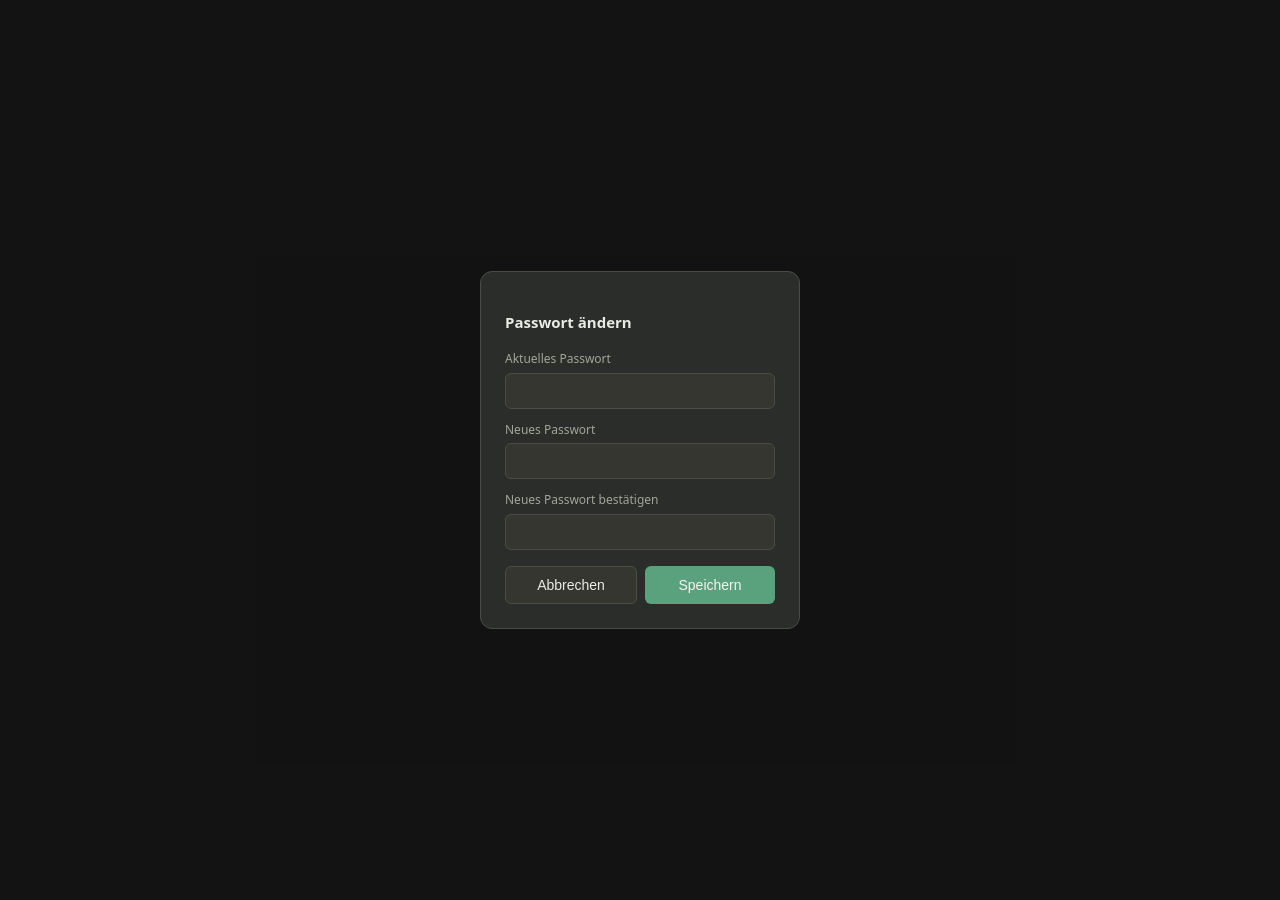
Test: ChangePasswordForm › submits matching passwords and shows a success state
In the 1st password field: (640, 391) [505, 373, 775, 409], type "altesPasswort"
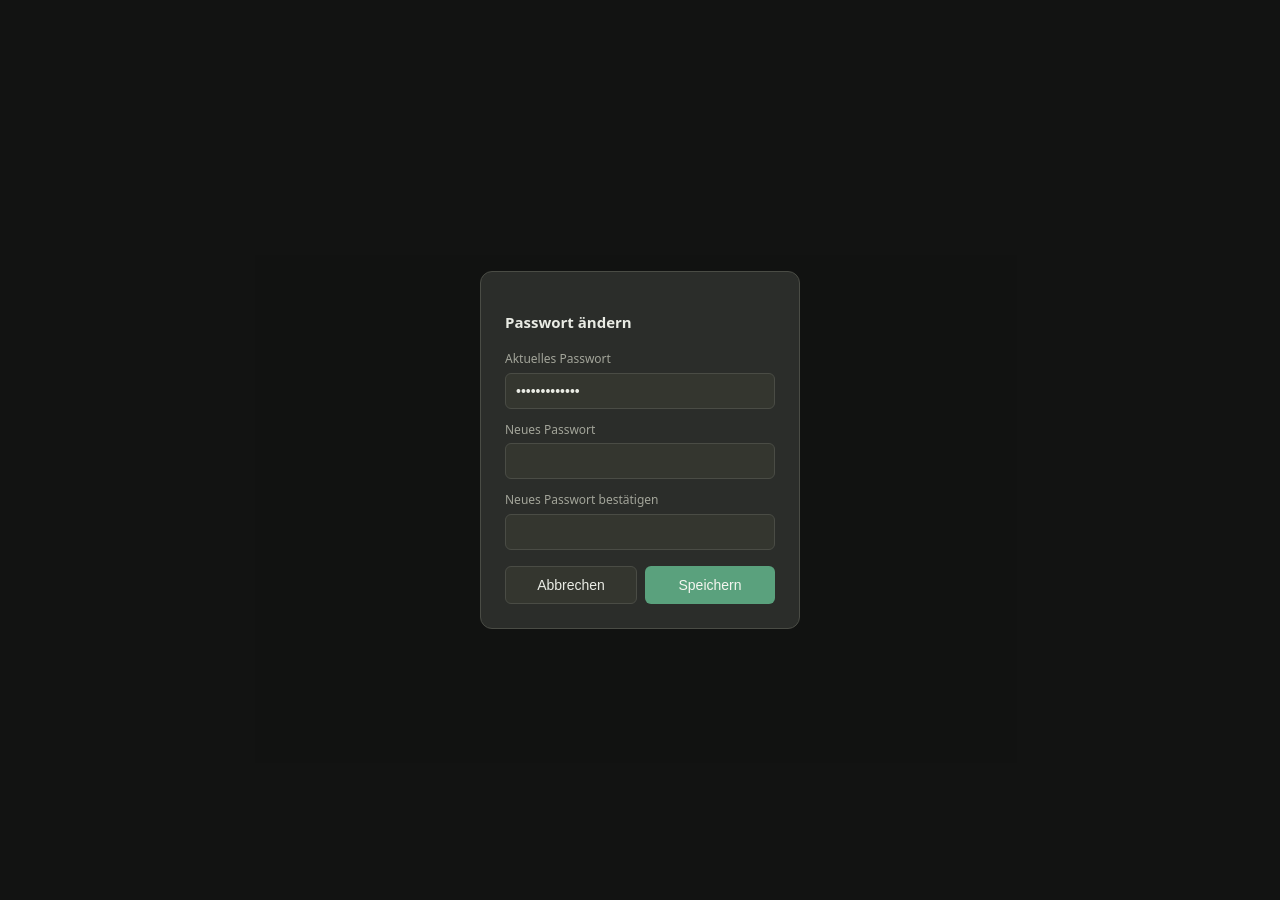
In the 2nd password field: (640, 461) [505, 443, 775, 479], type "neuesPasswort1"
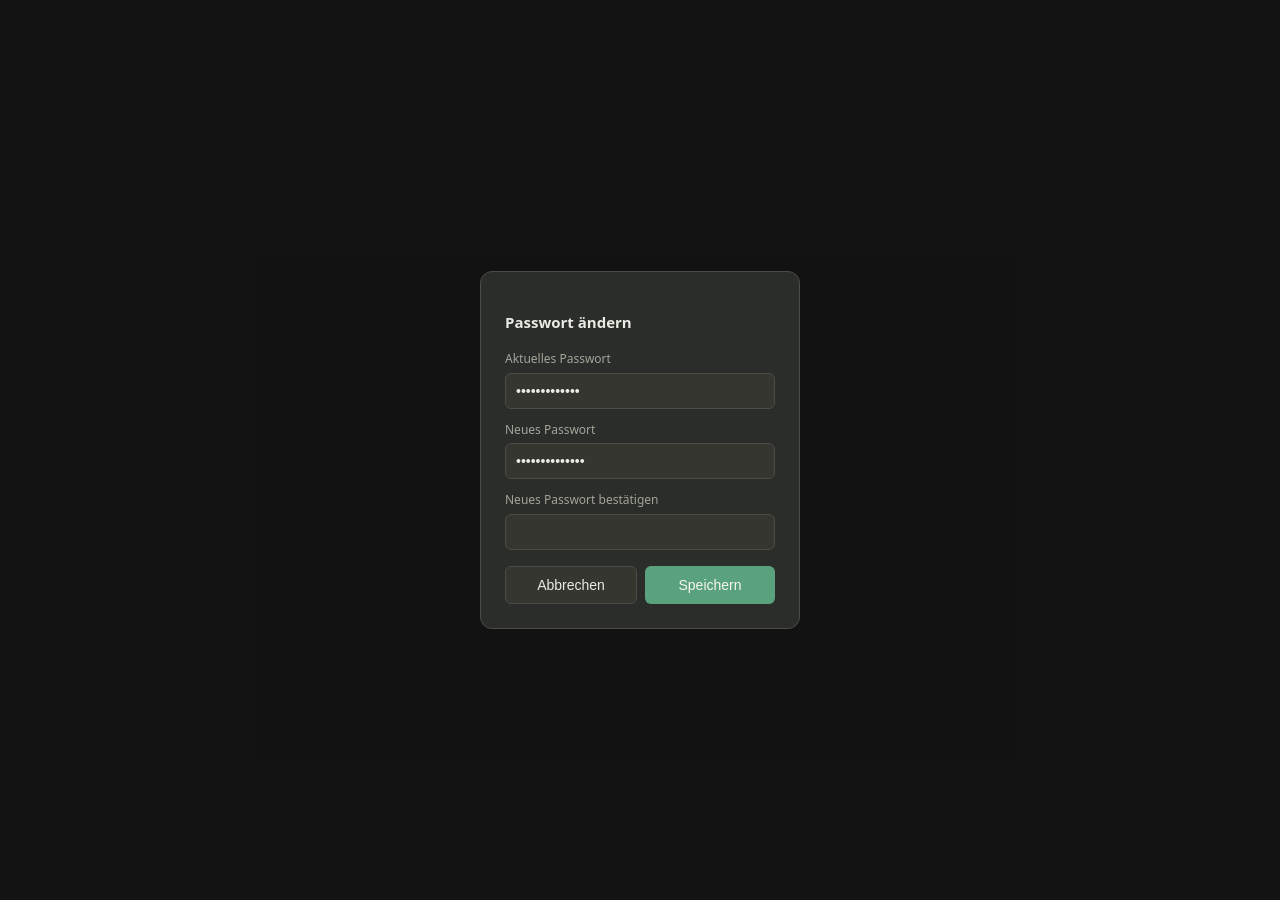
In the 3rd password field: (640, 532) [505, 514, 775, 550], type "neuesPasswort1"
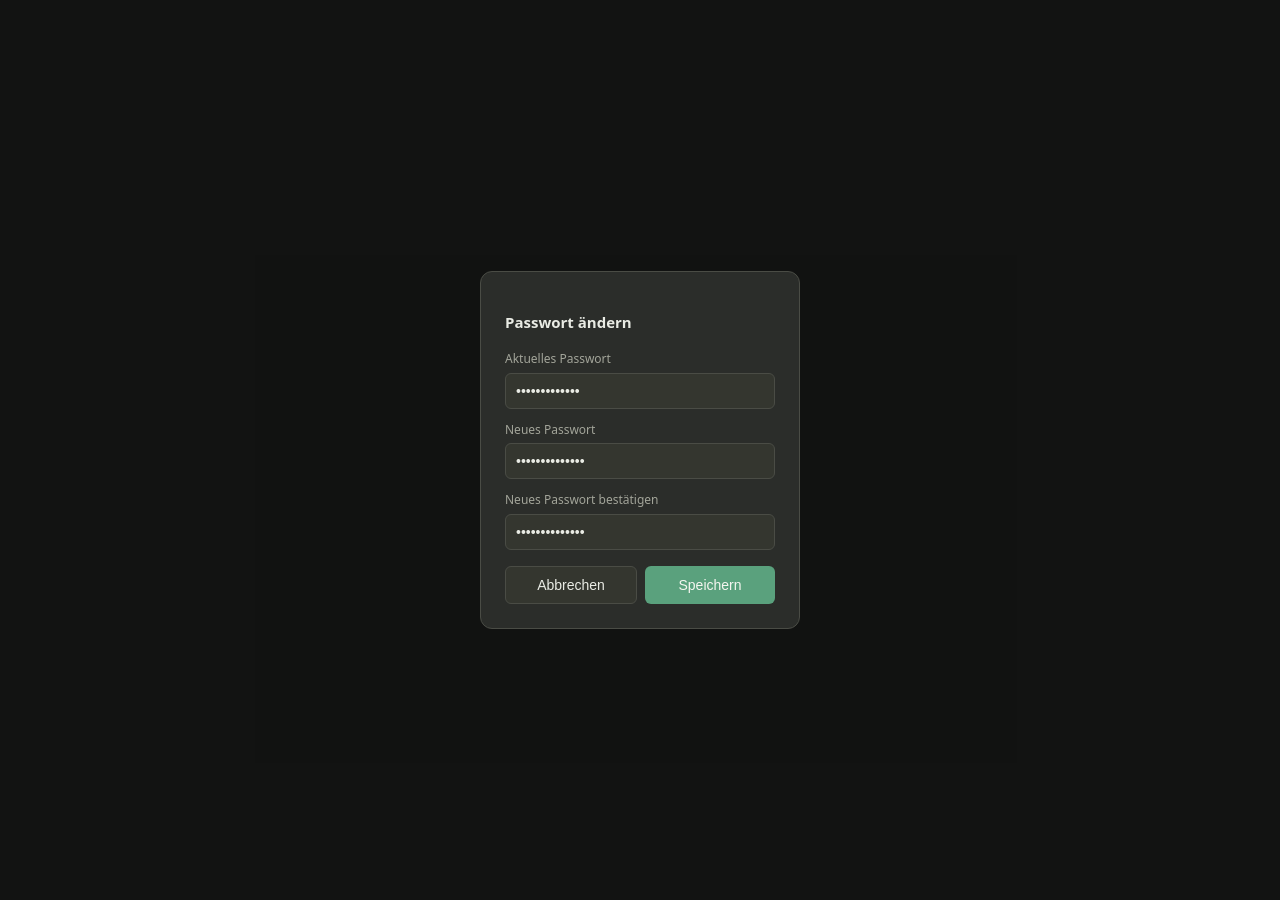
Click the button "Speichern": (710, 585) [645, 566, 775, 604]
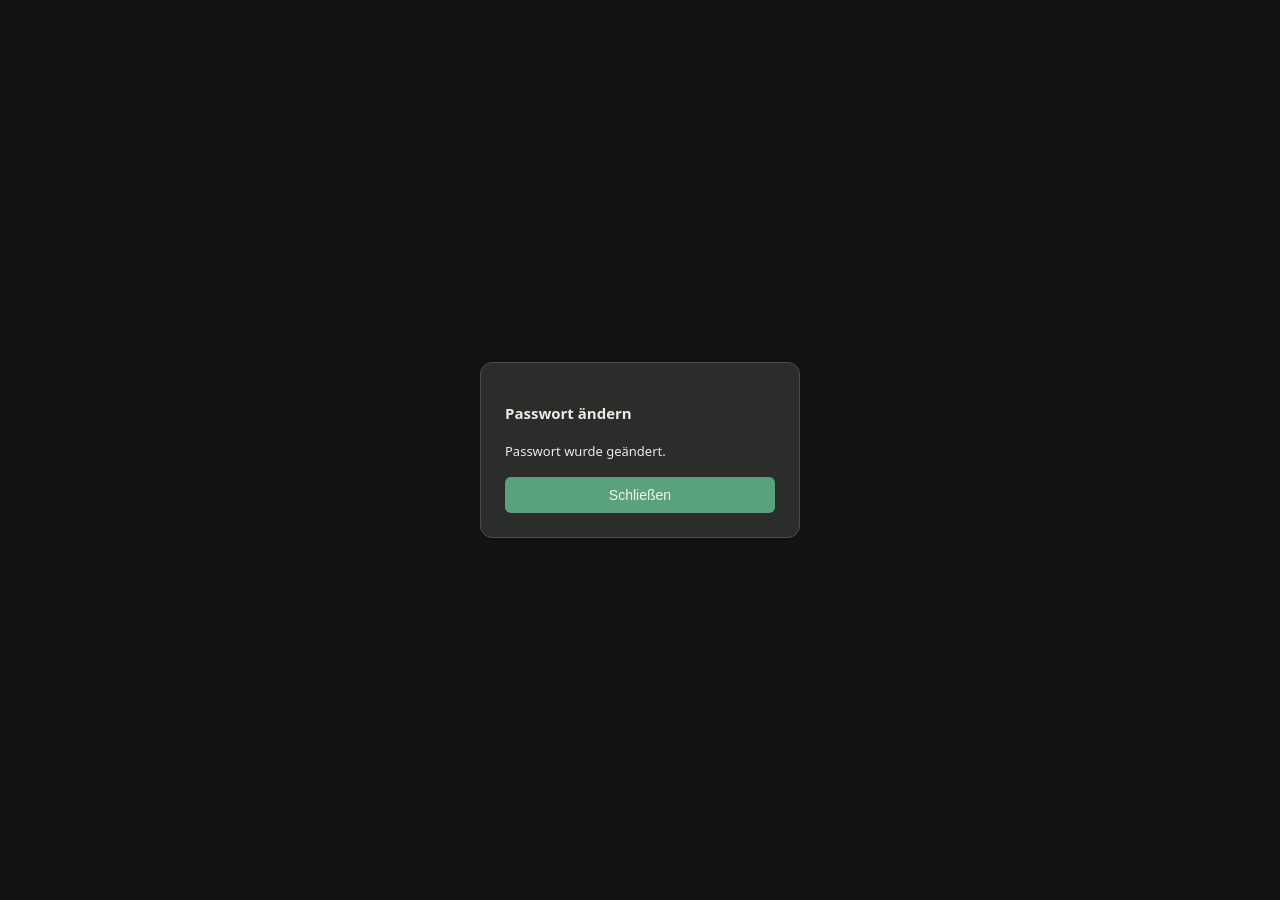
Expected: the text "Passwort wurde geändert." is shown, [505, 442, 666, 460]
